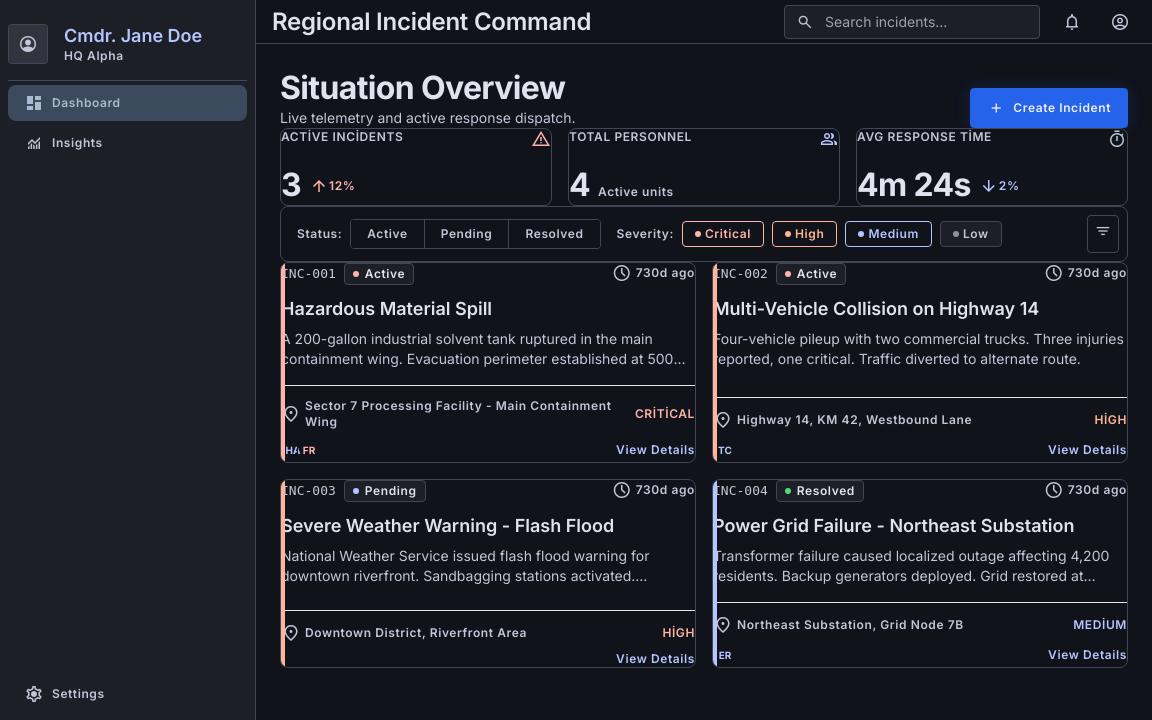
Test: CommandDashboard › clears filters when clear button is clicked
Expected: the heading "Hazardous Material Spill" is shown, left=281, top=298, right=492, bottom=319
Type "zzzzzzzzz" into the field with placeholder "Search incidents..." at (912, 22), box left=784, top=4, right=1040, bottom=38
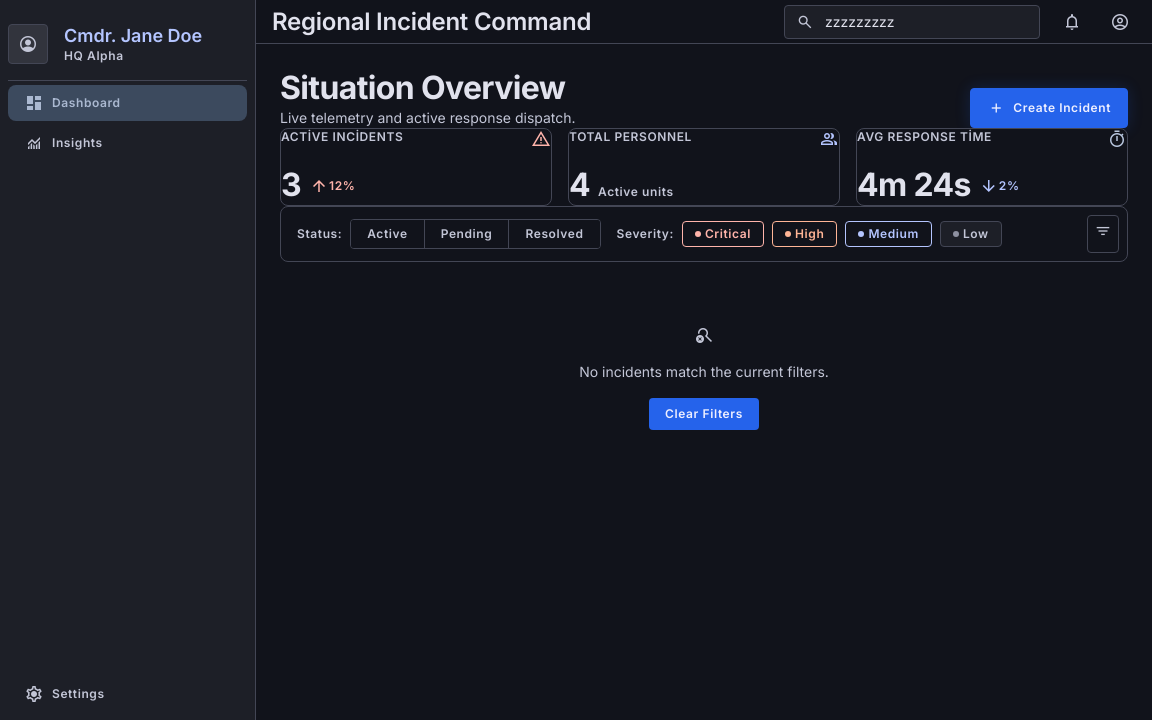
Click the button "Clear Filters" at (704, 414), box left=649, top=398, right=759, bottom=430
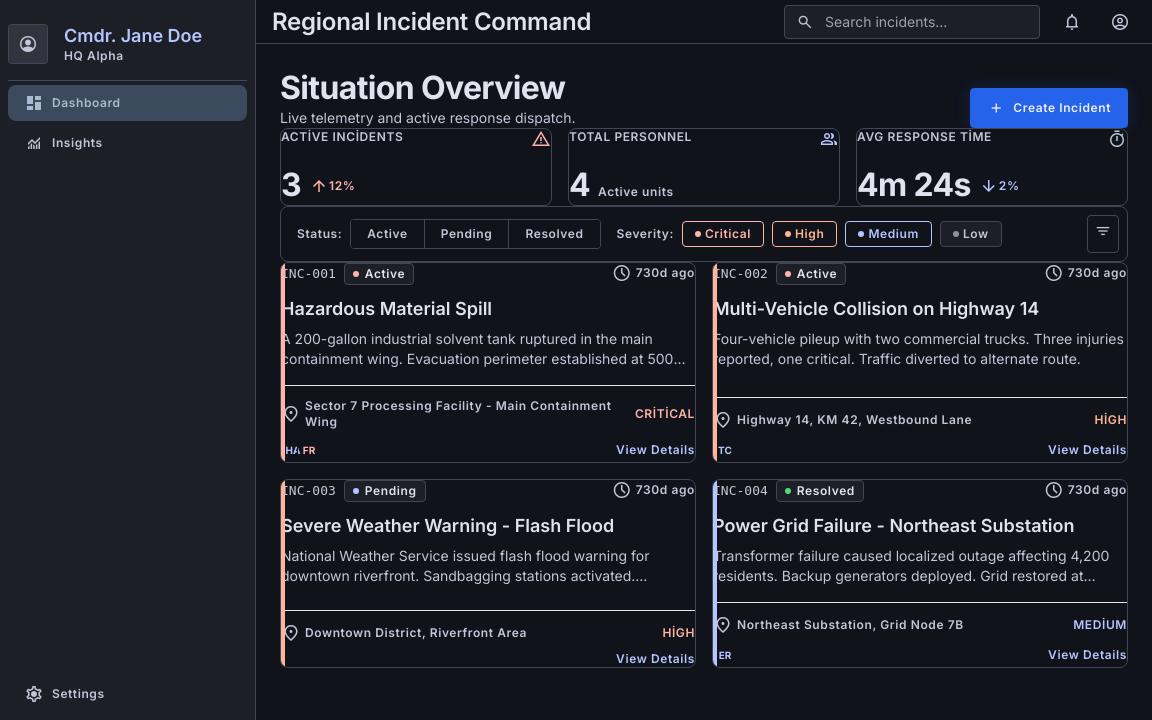
Expected: the text "No incidents match" is gone
